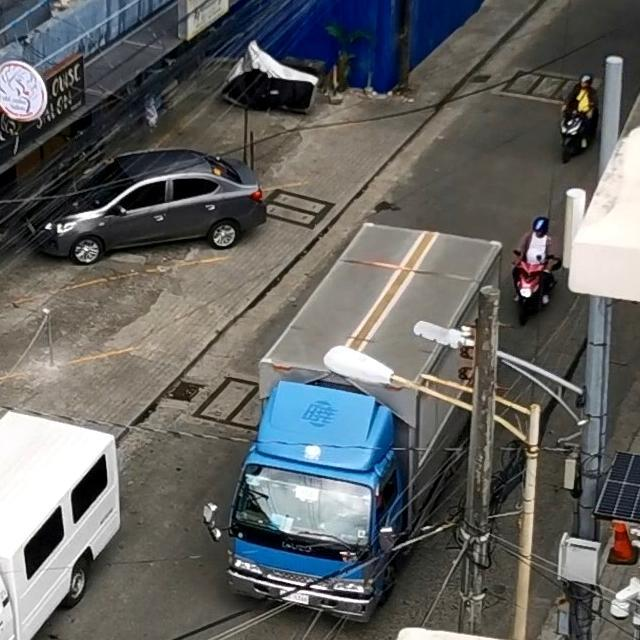Motorcycle: (510, 246, 560, 325), (558, 103, 596, 163)
